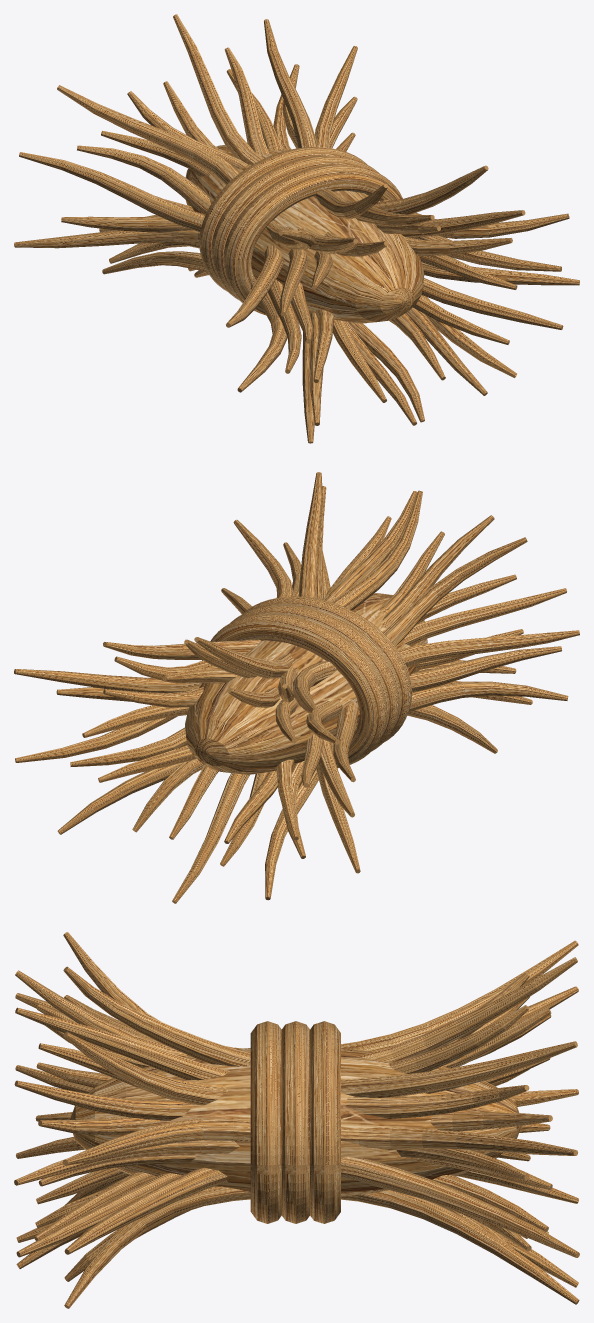
Rendered from plant_fiber.obj.
3 renders of one model, top to bottom at view 1: azimuth 30°, elevation 25°; view 2: azimuth 150°, elevation 25°; view 3: azimuth 270°, elevation 25°, orthographic. The views are drawn at different scales.
Parts seen in each view (by area): view 1: core, tie_2, fiber_14, fiber_11, fiber_17, fiber_05, fiber_08, fiber_13, tie_1, tie_0, fiber_02, fiber_16 (+22 smaller); view 2: core, tie_0, fiber_14, fiber_08, fiber_11, fiber_17, fiber_05, fiber_02, fiber_16, fiber_13, tie_2, tie_1 (+22 smaller); view 3: core, fiber_29, fiber_02, fiber_05, fiber_08, fiber_26, tie_2, tie_0, fiber_04, tie_1, fiber_07, fiber_01 (+20 smaller).
Part boxes in pixels (x1,y1,x2,y2): core: [185, 142, 424, 323]; tie_2: [223, 164, 402, 315]; fiber_14: [19, 152, 283, 327]; fiber_11: [57, 85, 314, 249]; fiber_17: [14, 230, 287, 392]; fiber_05: [264, 19, 488, 214]; fiber_08: [173, 14, 387, 218]; fiber_13: [77, 145, 307, 316]; tie_1: [211, 155, 379, 300]; tie_0: [199, 147, 366, 291]; fiber_02: [315, 46, 569, 238]; fiber_16: [61, 216, 301, 373]; core: [185, 593, 427, 774]; tie_0: [202, 614, 387, 767]; fiber_14: [333, 630, 579, 782]; fiber_08: [194, 490, 422, 678]; fiber_11: [293, 537, 527, 714]; fiber_17: [316, 681, 568, 873]; fiber_05: [103, 472, 322, 659]; fiber_02: [14, 519, 293, 693]; fiber_16: [319, 646, 561, 817]; fiber_13: [306, 588, 566, 744]; tie_2: [243, 596, 412, 742]; tie_1: [230, 605, 399, 751]; core: [70, 1048, 521, 1196]; fiber_29: [64, 1156, 579, 1257]; fiber_02: [62, 1118, 577, 1165]; fiber_05: [63, 1032, 577, 1105]; fiber_08: [63, 957, 577, 1066]; fiber_26: [64, 1186, 579, 1308]; tie_2: [250, 1021, 281, 1223]; tie_0: [310, 1021, 340, 1223]; fiber_04: [14, 1080, 529, 1120]; tie_1: [281, 1021, 309, 1223]; fiber_07: [15, 1005, 528, 1080]; fiber_01: [14, 1140, 528, 1185].
Bounding box in the file's own units: 112 × 81.16 × 131.
Materials: 1 (1 with a texture image).
